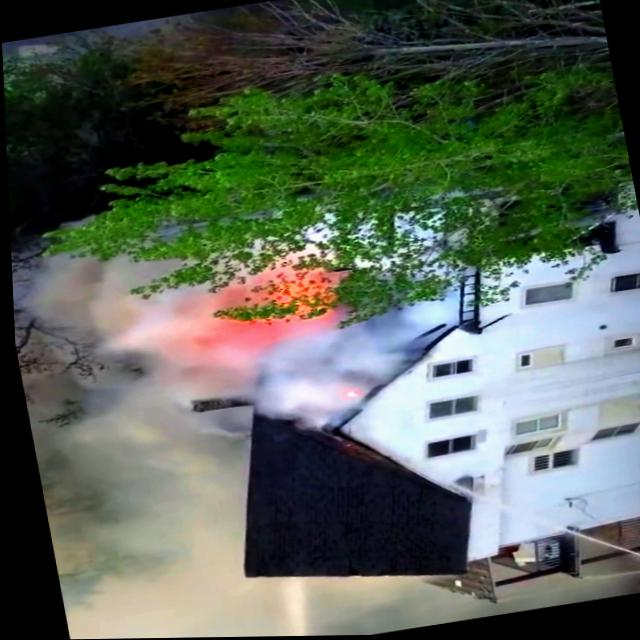smoke: (174, 291, 378, 410)
